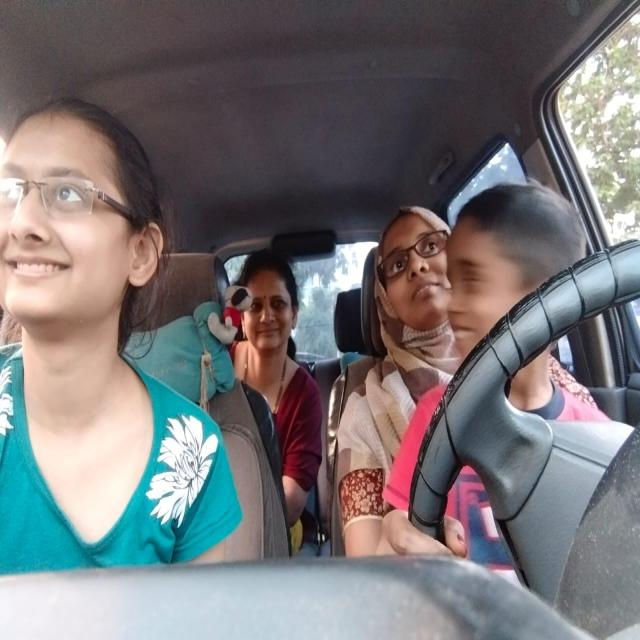child: (448, 176, 592, 412)
person: (5, 90, 170, 358), (378, 193, 458, 360), (234, 237, 302, 388)
